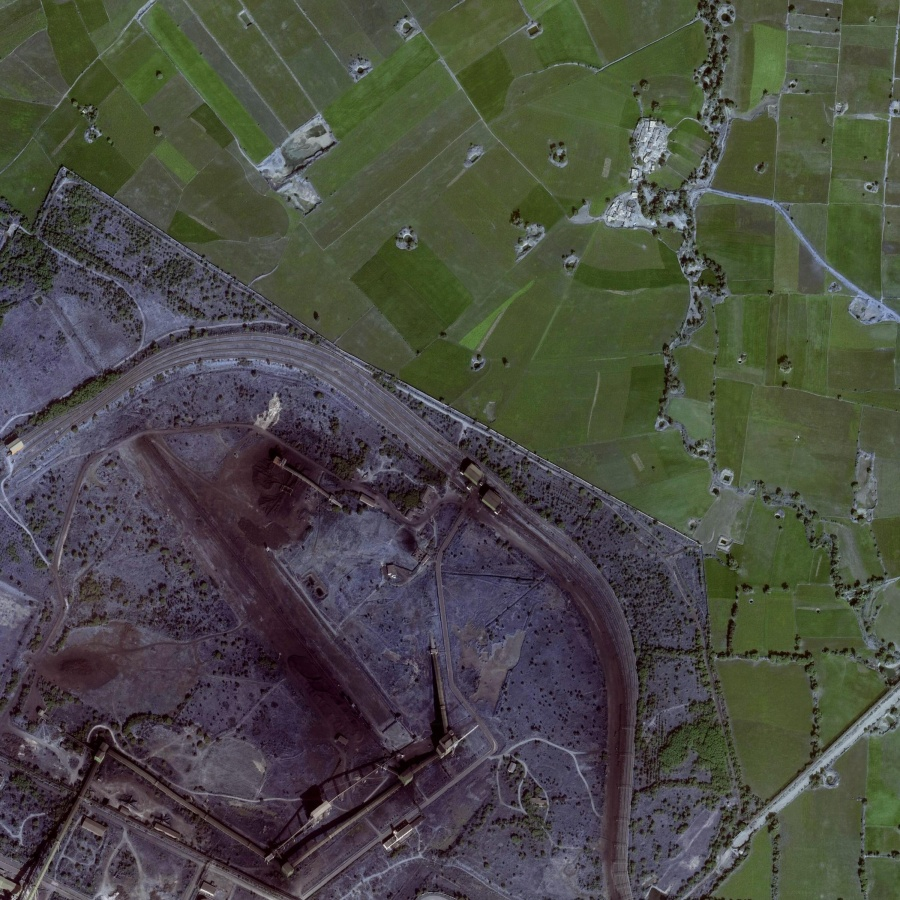PowerPlant: (95, 401, 421, 797)
